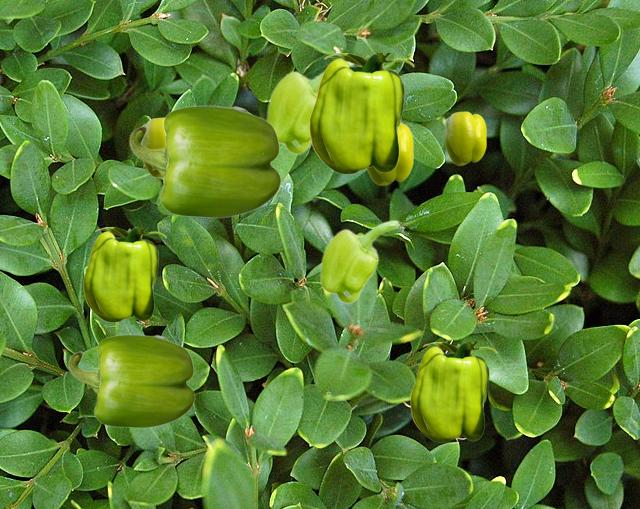bell_pepper: (129, 105, 280, 217), (309, 53, 413, 173), (68, 334, 194, 427), (410, 342, 496, 441), (265, 63, 354, 154), (83, 227, 165, 321), (319, 219, 399, 303), (366, 123, 412, 184), (444, 111, 485, 164), (143, 117, 164, 176)
